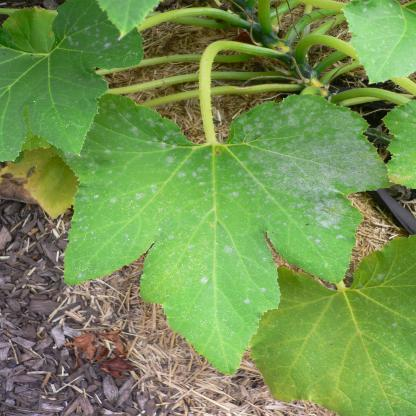Squash Powdery mildew leaf: (55, 88, 393, 372)
